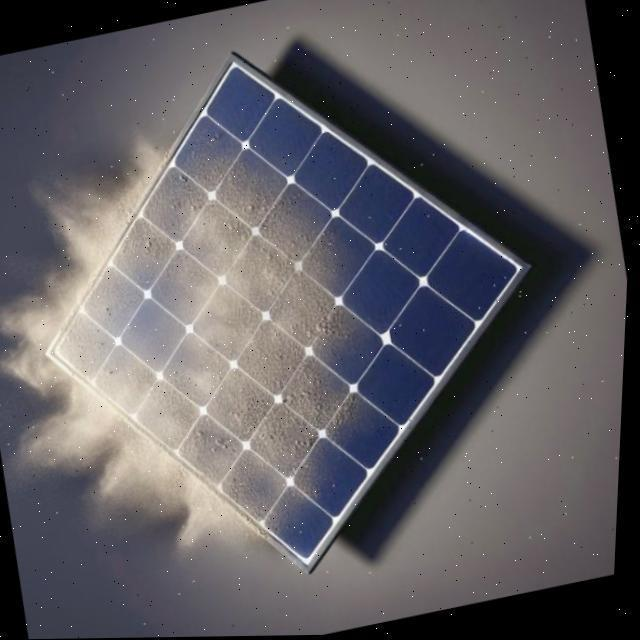Anomaly Solar Panel: (9, 61, 529, 573)
Surface Contaminant: (22, 118, 466, 552)
